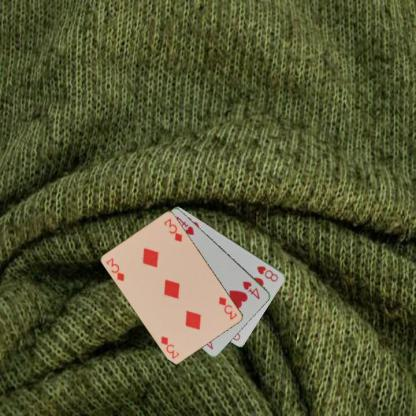3d: (216, 294, 239, 321), (104, 256, 126, 283)
4h: (240, 278, 262, 300)
8h: (254, 264, 280, 283)
